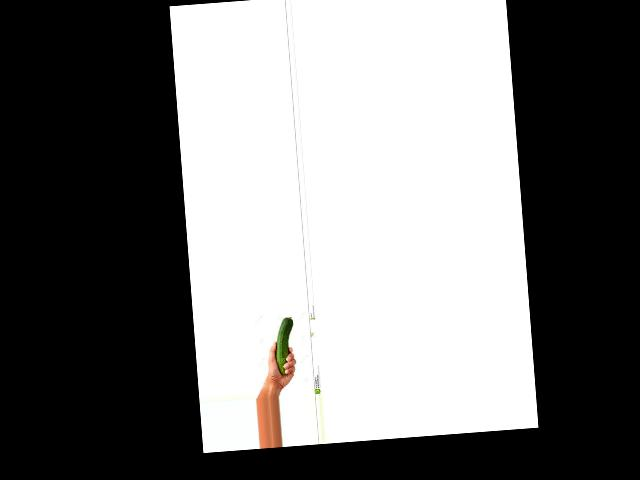cucumber: (274, 316, 297, 375)
